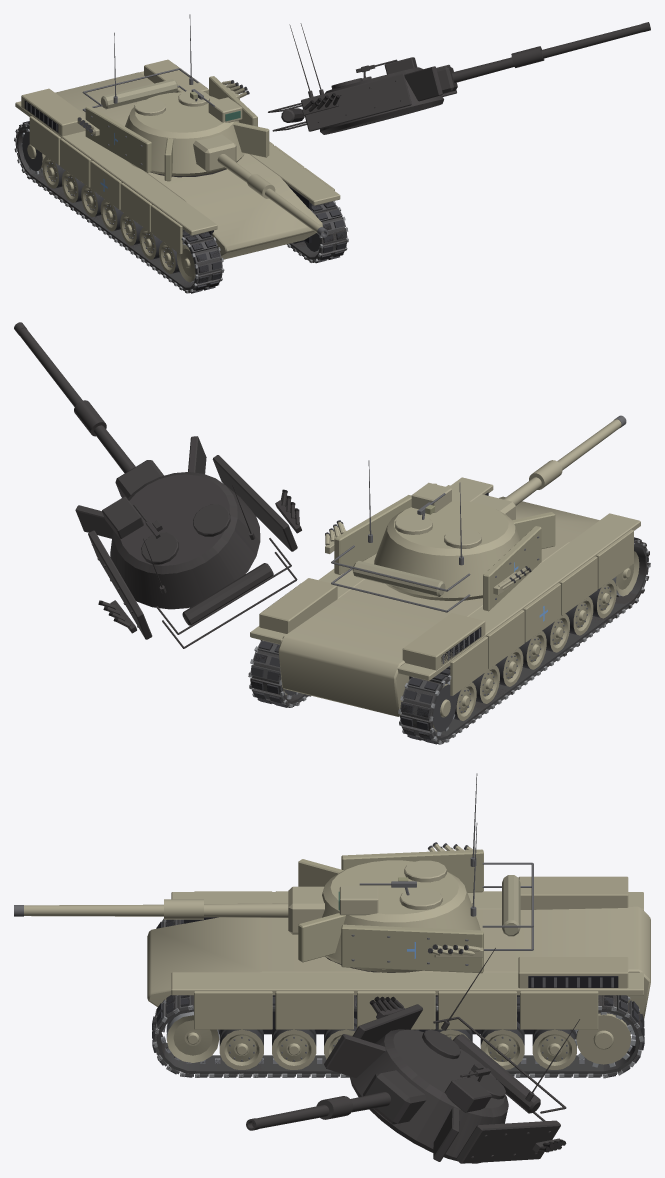
Rendered from tank__leopard_1a5br.glb.
3 renders of one model, top to bottom at view 1: azimuth 30°, elevation 25°; view 2: azimuth 150°, elevation 25°; view 3: azimuth 270°, elevation 25°, orthographic. The views are drawn at different scales.
Visible parts, largest first — view 1: Hull_Mesh, Wreck, Turret_Mesh, Track_L_Mesh, Gun_Mesh, Track_R_Mesh, Gunner_Sight_Mesh, Sprocket_L_Mesh, Idler_L_Mesh, Wheel_L3_Mesh, Wheel_L2_Mesh, Wheel_L0_Mesh (+6 smaller); view 2: Hull_Mesh, Wreck, Turret_Mesh, Track_L_Mesh, Gun_Mesh, Track_R_Mesh, Sprocket_L_Mesh, Hatch_Commander_Mesh, Gunner_Sight_Mesh, Wheel_L2_Mesh, Wheel_L3_Mesh, Wheel_L4_Mesh (+6 smaller); view 3: Hull_Mesh, Wreck, Turret_Mesh, Track_R_Mesh, Gun_Mesh, Sprocket_R_Mesh, Idler_R_Mesh, Wheel_R5_Mesh, Wheel_R6_Mesh, Wheel_R0_Mesh, Wheel_R1_Mesh, Gunner_Sight_Mesh (+3 smaller).
Part boxes in pixels (x1,y1,x2,y2): Hull_Mesh: (15, 59, 340, 259); Wreck: (14, 22, 650, 293); Turret_Mesh: (82, 68, 269, 181); Track_L_Mesh: (14, 121, 224, 293); Gun_Mesh: (193, 134, 328, 237); Track_R_Mesh: (287, 201, 348, 263); Gunner_Sight_Mesh: (208, 97, 242, 122); Sprocket_L_Mesh: (21, 128, 46, 174); Idler_L_Mesh: (176, 243, 195, 282); Wheel_L3_Mesh: (100, 199, 123, 231); Wheel_L2_Mesh: (81, 185, 104, 217); Wheel_L0_Mesh: (42, 156, 65, 188); Hull_Mesh: (250, 477, 640, 716); Wreck: (14, 322, 649, 743); Turret_Mesh: (331, 483, 555, 612); Track_L_Mesh: (398, 537, 650, 744); Gun_Mesh: (471, 415, 626, 520); Track_R_Mesh: (248, 640, 311, 707); Sprocket_L_Mesh: (432, 680, 456, 736); Hatch_Commander_Mesh: (395, 493, 445, 534); Gunner_Sight_Mesh: (411, 482, 451, 512); Wheel_L2_Mesh: (495, 648, 523, 686); Wheel_L3_Mesh: (519, 631, 546, 669); Wheel_L4_Mesh: (542, 614, 569, 652); Hull_Mesh: (147, 876, 650, 1034); Wreck: (152, 919, 644, 1163); Turret_Mesh: (298, 849, 533, 973); Track_R_Mesh: (152, 995, 644, 1078); Gun_Mesh: (14, 886, 324, 934); Sprocket_R_Mesh: (574, 1011, 635, 1067); Idler_R_Mesh: (166, 1011, 219, 1062); Wheel_R5_Mesh: (272, 1026, 316, 1069); Wheel_R6_Mesh: (219, 1029, 263, 1069); Wheel_R0_Mesh: (532, 1029, 576, 1069); Wheel_R1_Mesh: (480, 1021, 524, 1069); Gunner_Sight_Mesh: (338, 886, 378, 915).
Size of what is drawn, in the model's own units: 10.75 by 3.58 by 8.92.
